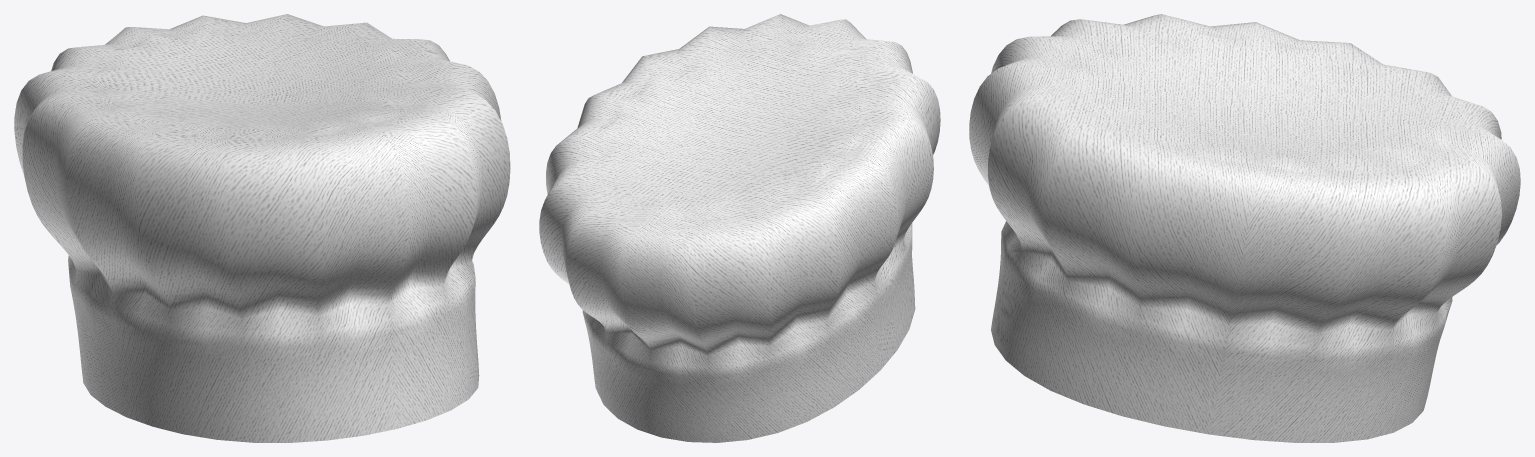
File: chef_hat_toon.glb
3 views of the same model, side by side, from view 1: azimuth 30°, elevation 25°; view 2: azimuth 150°, elevation 25°; view 3: azimuth 270°, elevation 25° (orthographic). The views are drawn at different scales.
Visible parts, largest first — view 1: chefhat_1; view 2: chefhat_1; view 3: chefhat_1.
Boxes of the visible parts, bbox=[...] form: chefhat_1: bbox=[14, 14, 510, 442]; chefhat_1: bbox=[539, 14, 940, 442]; chefhat_1: bbox=[969, 14, 1520, 442].
Bounding box in the file's own units: 0.1788 × 0.1555 × 0.2333.
1 material, 1 textured.
